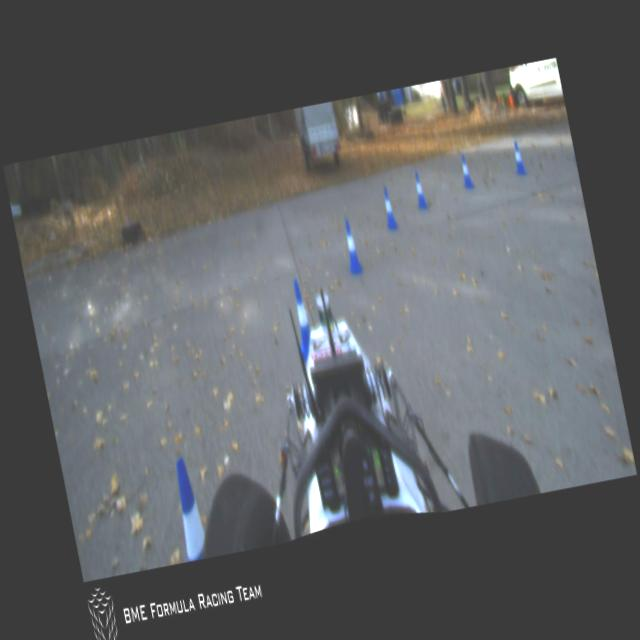blue_cone: (168, 456, 210, 562), (288, 278, 316, 360), (341, 218, 364, 274), (380, 184, 399, 230), (412, 171, 428, 209), (511, 141, 527, 175), (458, 154, 474, 188)
